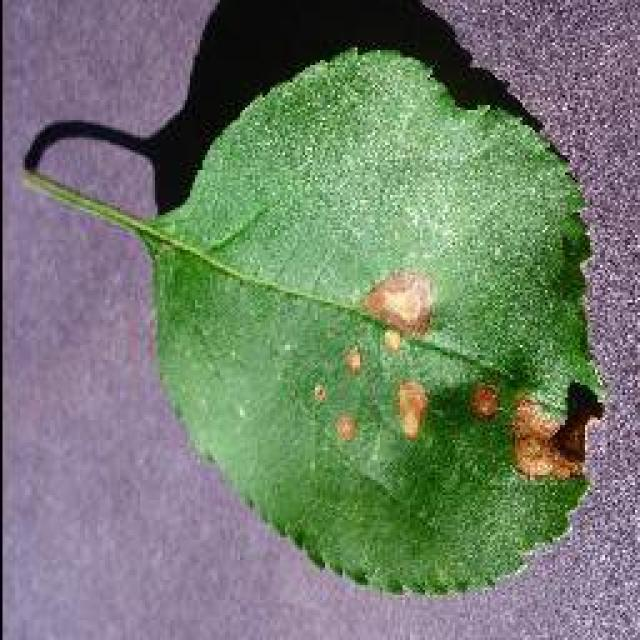Black_rot: (20, 38, 608, 598)
